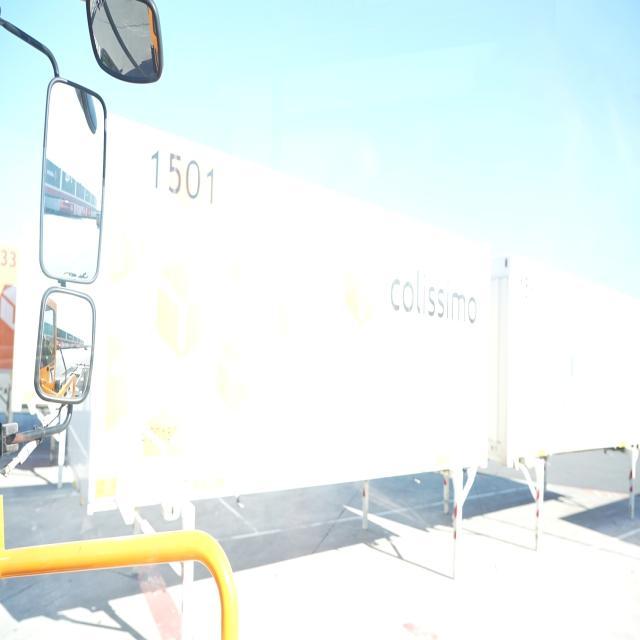Code: (148, 139, 218, 214)
